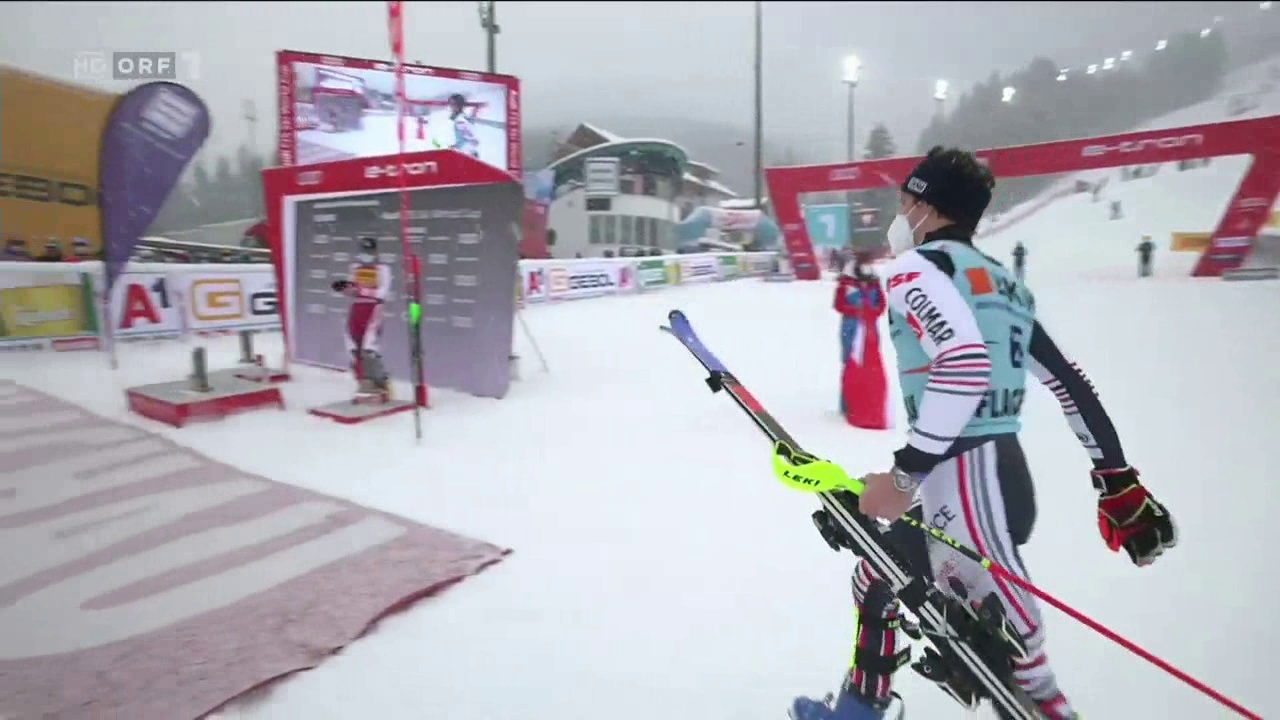a1: (112, 278, 181, 332)
etron: (1082, 129, 1209, 159), (360, 159, 439, 182)
goesser: (1, 289, 92, 334)
